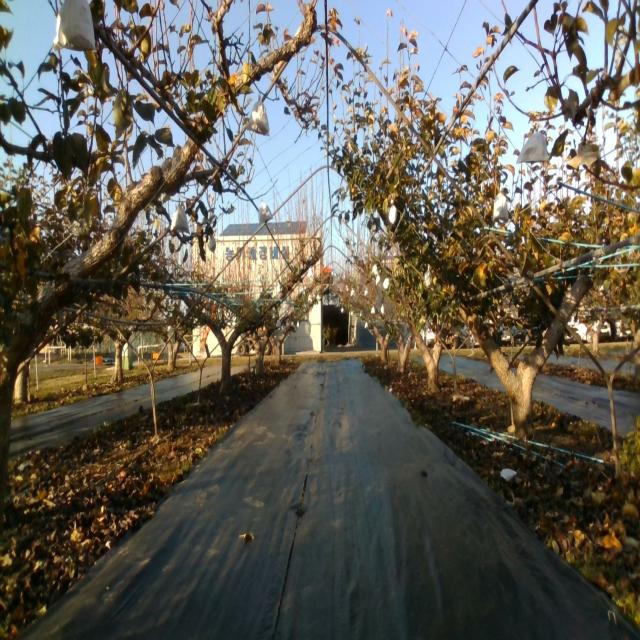pearbags: (48, 0, 95, 55), (516, 133, 548, 163), (248, 101, 270, 136), (170, 205, 190, 235), (492, 192, 508, 220), (258, 200, 274, 225), (388, 199, 398, 225)
